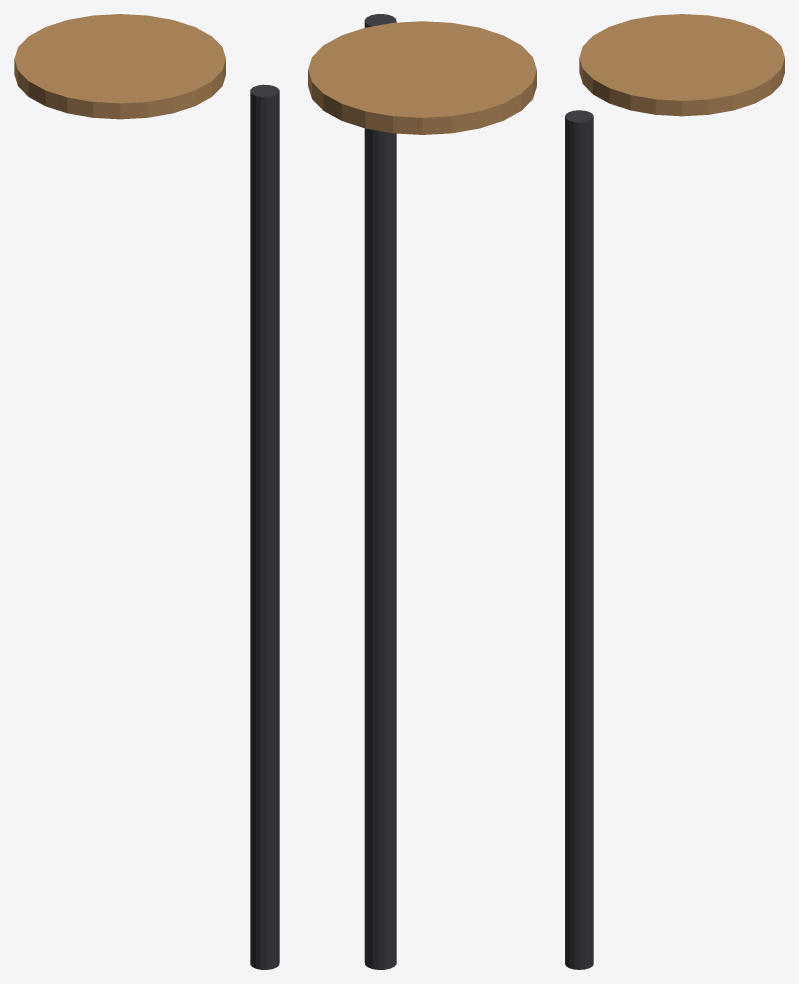
Rendered from patio_heater_standing.glb.
3 renders of one model, left to right at view 1: azimuth 30°, elevation 25°; view 2: azimuth 150°, elevation 25°; view 3: azimuth 270°, elevation 25°, orthographic. The views are drawn at different scales.
Size of the model in its own units: 0.5164 by 2.24 by 0.5164.
